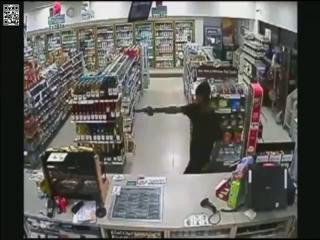criminal: (131, 83, 226, 175)
weapon: (132, 106, 155, 118)
